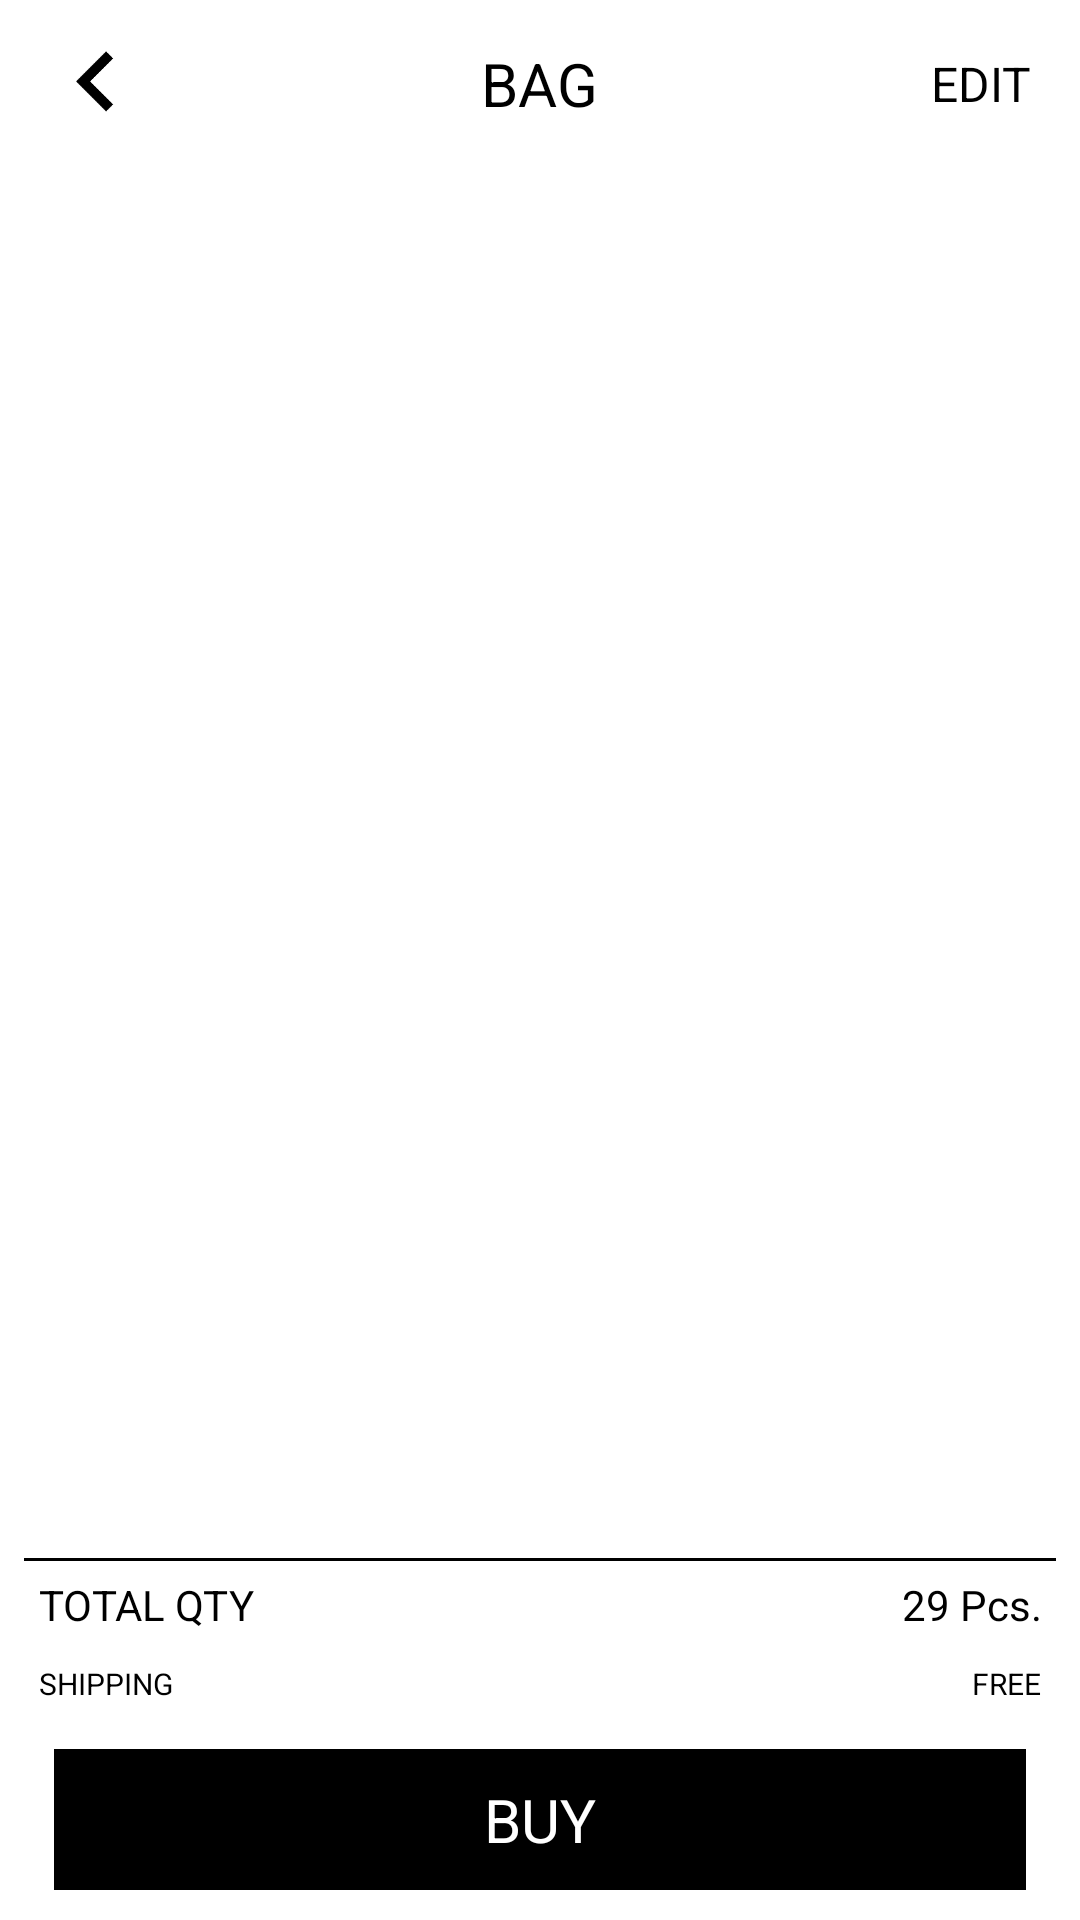

Where to tap for icons on this 1080*1920 app screen, as point (x, y):
back: point (94, 81)
